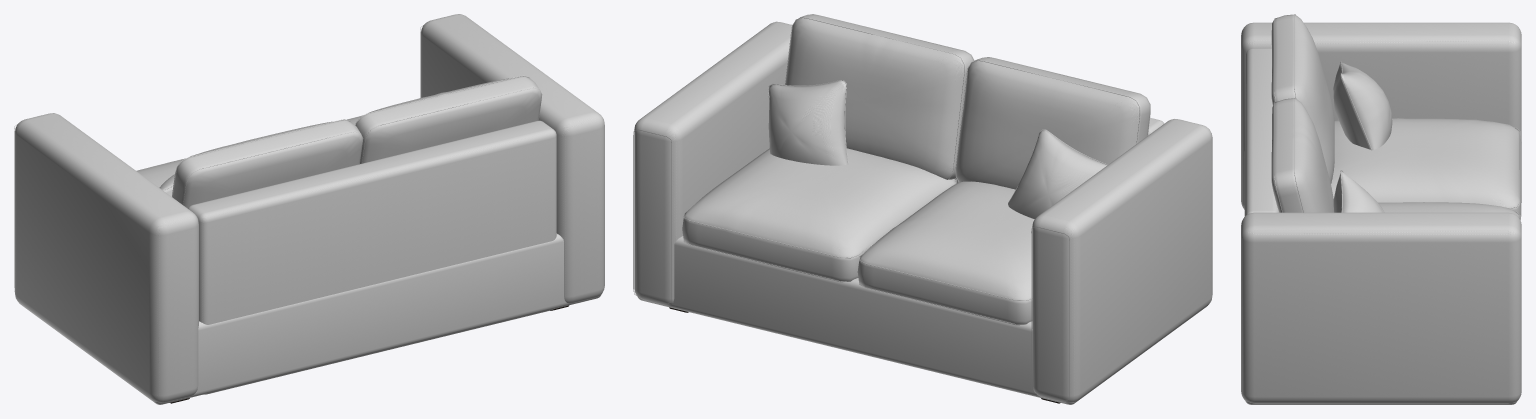
The model's file is sofa-classic-two.glb.
3 views of the same model, side by side, from view 1: azimuth 30°, elevation 25°; view 2: azimuth 150°, elevation 25°; view 3: azimuth 270°, elevation 25° (orthographic). The views are drawn at different scales.
Parts seen in each view (by area): view 1: Structural back, Upholstered arm, Upholstered base, Upholstered arm.001, Back pillow 1, Back pillow 2, Seat 1; view 2: Upholstered arm, Upholstered base, Seat 2, Upholstered arm.001, Back pillow 2, Seat 1, Back pillow 1, Loose scatter pillow.001, Loose scatter pillow; view 3: Upholstered arm.001, Upholstered arm, Seat 1, Back pillow 2, Back pillow 1, Structural back, Loose scatter pillow, Seat 2, Loose scatter pillow.001, Upholstered base.
Boxes of the visible parts, x1,y1,x2,y2 form: Structural back: (188,120,556,394); Upholstered arm: (15,113,198,402); Upholstered base: (19,233,601,404); Upholstered arm.001: (421,14,604,303); Back pillow 1: (172,120,363,208); Back pillow 2: (355,76,541,163); Seat 1: (136,158,185,187); Upholstered arm: (1032,119,1212,402); Upholstered base: (637,236,1207,404); Seat 2: (682,148,956,282); Upholstered arm.001: (634,21,792,305); Back pillow 2: (785,14,974,179); Seat 1: (857,181,1034,325); Back pillow 1: (956,57,1150,189); Loose scatter pillow.001: (768,80,847,165); Loose scatter pillow: (1008,130,1107,219); Upholstered arm.001: (1241,212,1521,403); Upholstered arm: (1241,22,1521,209); Seat 1: (1331,118,1521,219); Back pillow 2: (1271,98,1333,212); Back pillow 1: (1271,14,1334,183); Structural back: (1245,48,1279,215); Loose scatter pillow: (1333,62,1392,150); Seat 2: (1378,202,1520,219); Loose scatter pillow.001: (1333,171,1384,212); Upholstered base: (1244,150,1517,404).
Size of the model in its own units: 1.7 by 0.8179 by 0.9505.
Materials: 2 (1 with a texture image).
